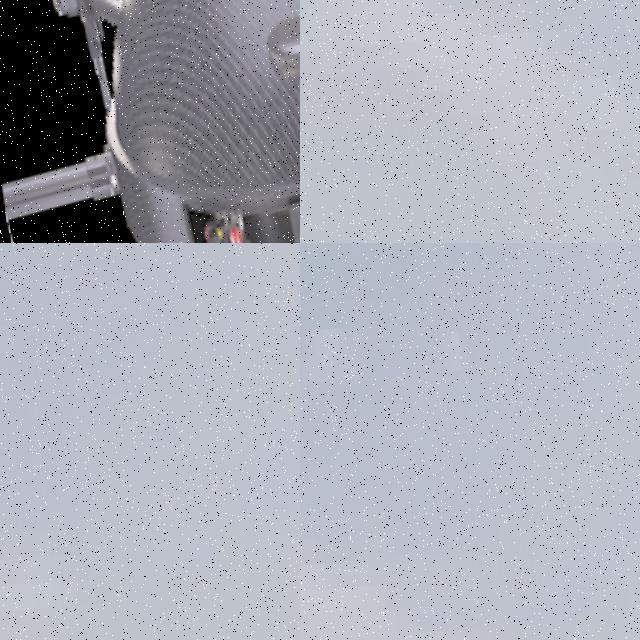drone: (0, 0, 300, 243)
